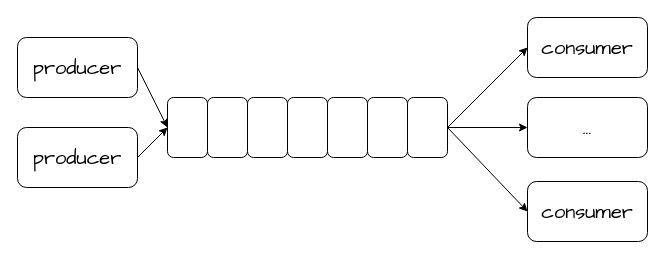
This 665x259 diagram has some shape labels left out. Each missing label, with the centre of its shape:
"head" goes at [427,127].
"tail" goes at [187,127].
